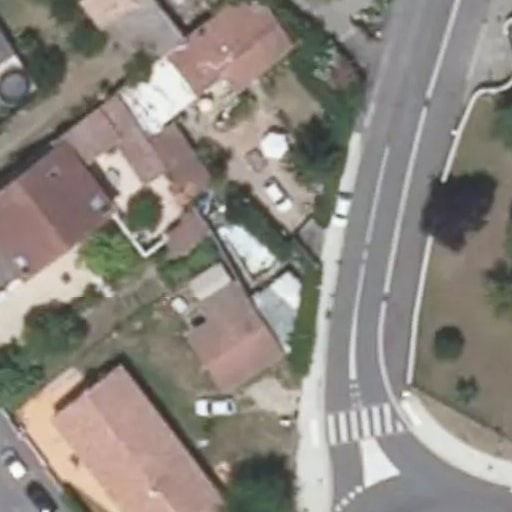pool: (216, 215, 281, 285)
